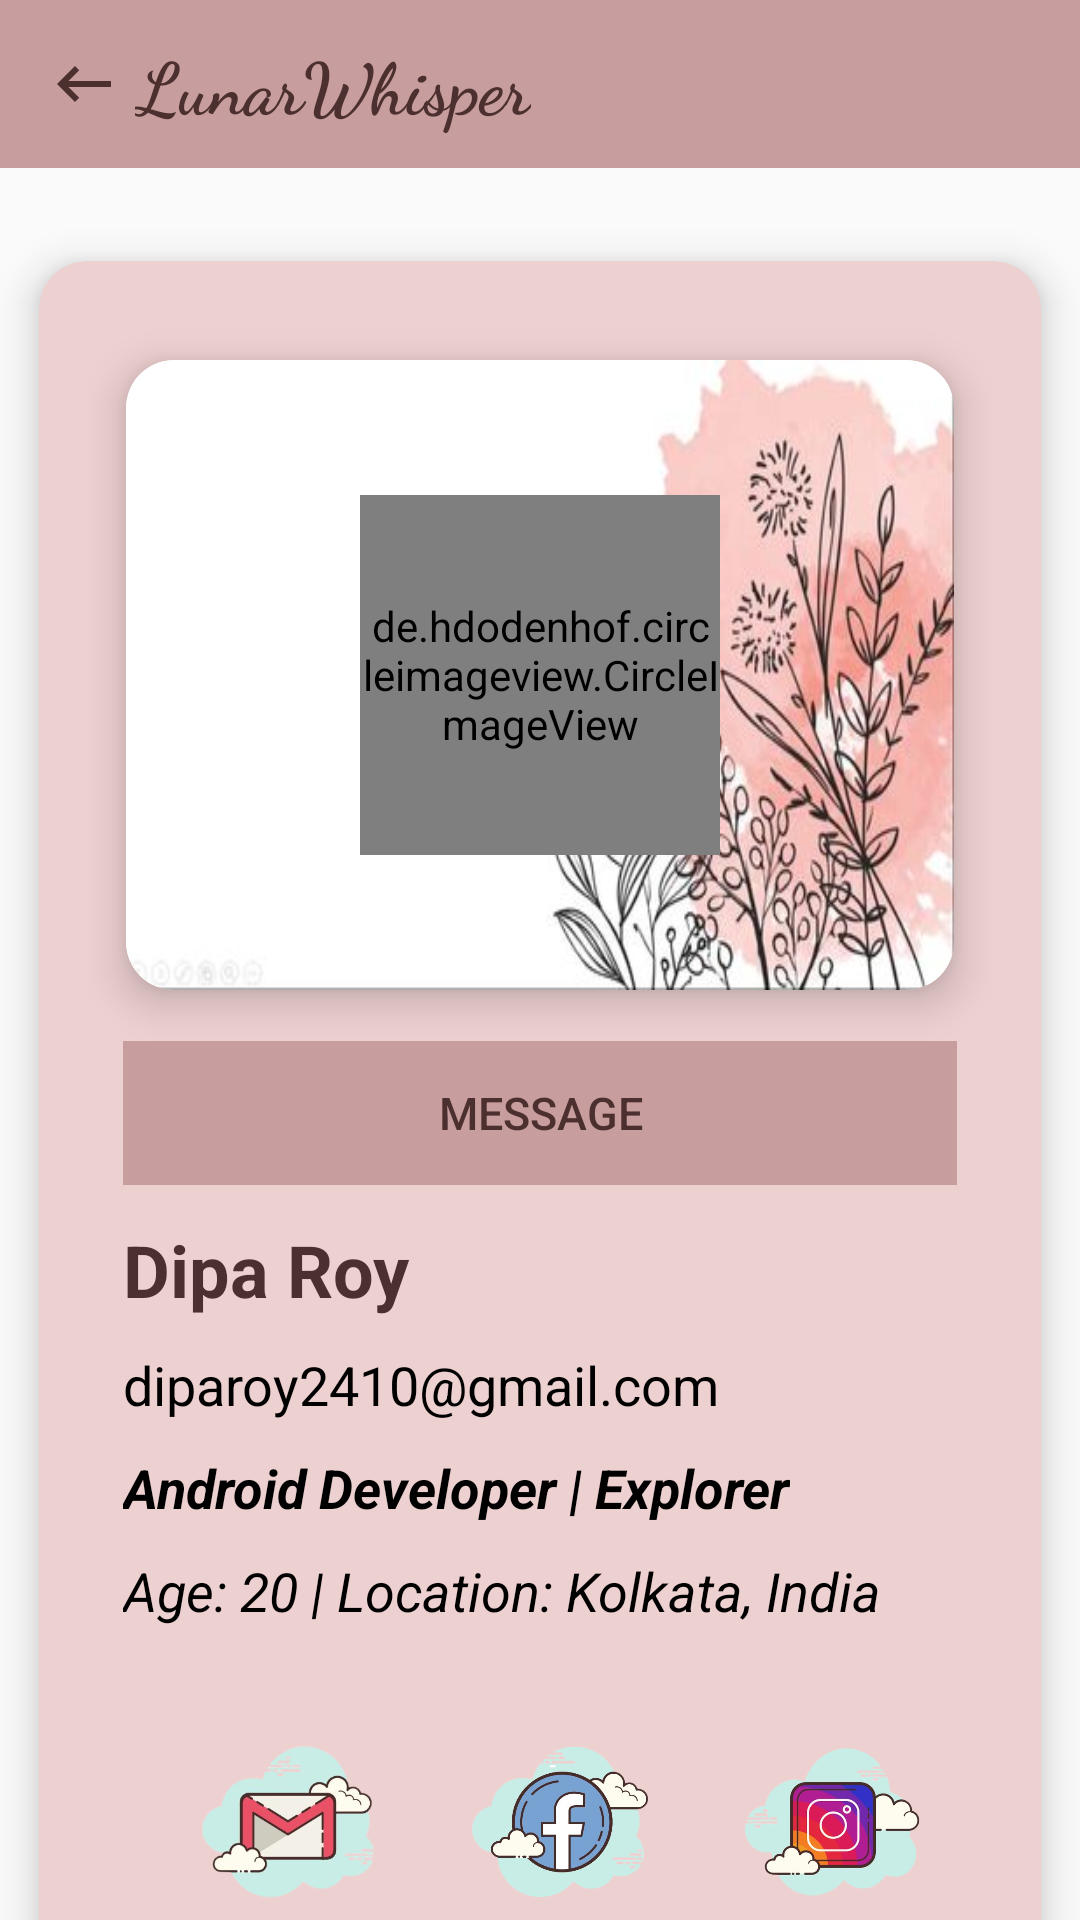

Named icons in this screenshot (1080 × 1920) and their bounding boxes, (x1, y1, x2, y2):
keyboard backspace: (57, 66, 111, 102)
